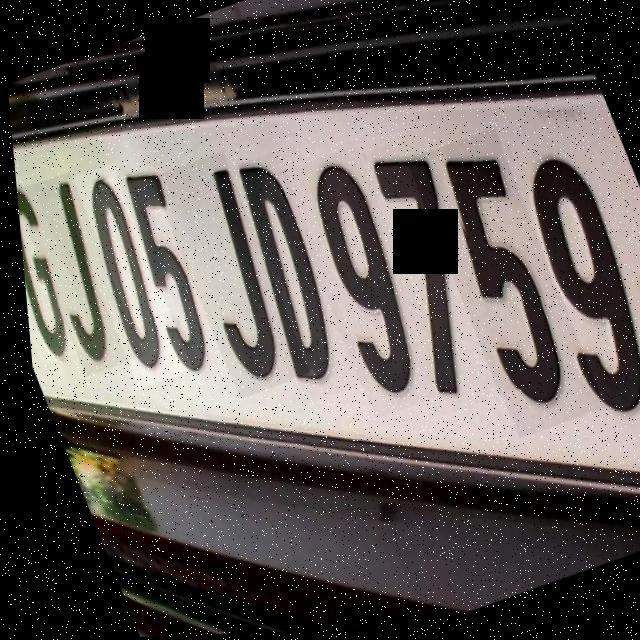0: (76, 175, 167, 379)
5: (434, 145, 574, 422), (117, 171, 211, 380)
7: (363, 151, 478, 403)
9: (508, 147, 640, 428), (297, 167, 418, 405)
D: (231, 168, 340, 394)
G: (13, 181, 67, 354)
J: (181, 166, 283, 383), (33, 173, 110, 368)
